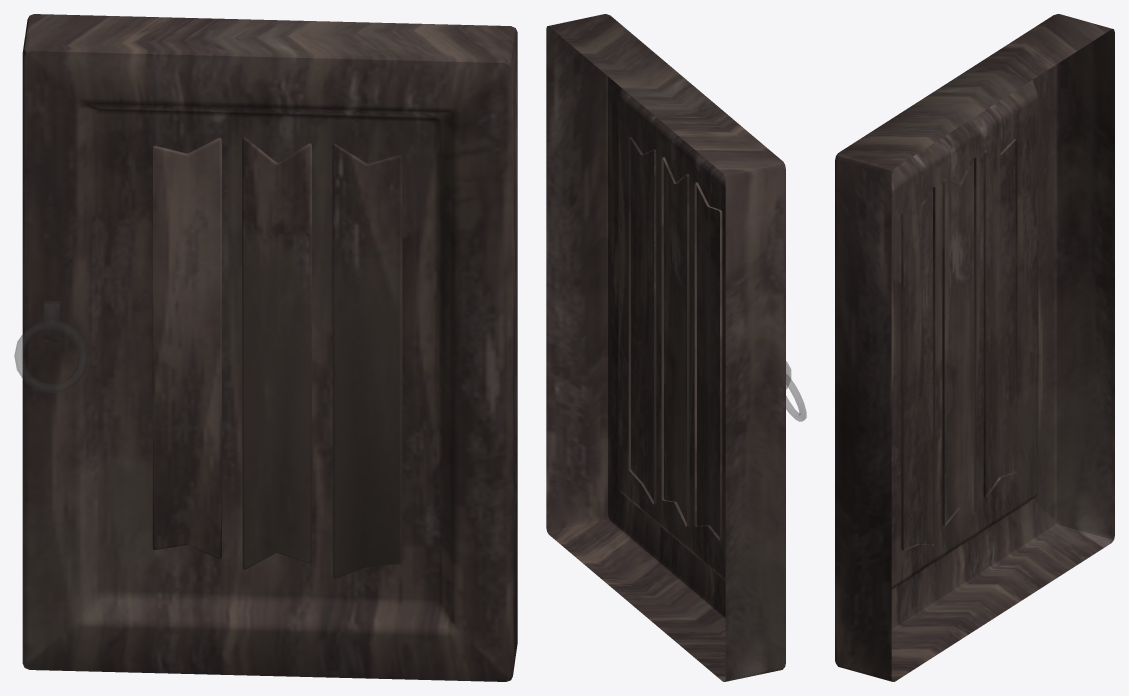
File: cabient2-door-r.glb
3 views of the same model, side by side, from view 1: azimuth 30°, elevation 25°; view 2: azimuth 150°, elevation 25°; view 3: azimuth 270°, elevation 25° (orthographic). The views are drawn at different scales.
Parts seen in each view (by area): view 1: cabeintDoor.005; view 2: cabeintDoor.005; view 3: cabeintDoor.005.
Part boxes in pixels (x1,y1,x2,y2): cabeintDoor.005: (14,14,517,681); cabeintDoor.005: (546,14,806,681); cabeintDoor.005: (835,14,1114,681).
Bounding box in the file's own units: 0.4996 × 0.7261 × 0.3585.
Materials: 2 (1 with a texture image).
